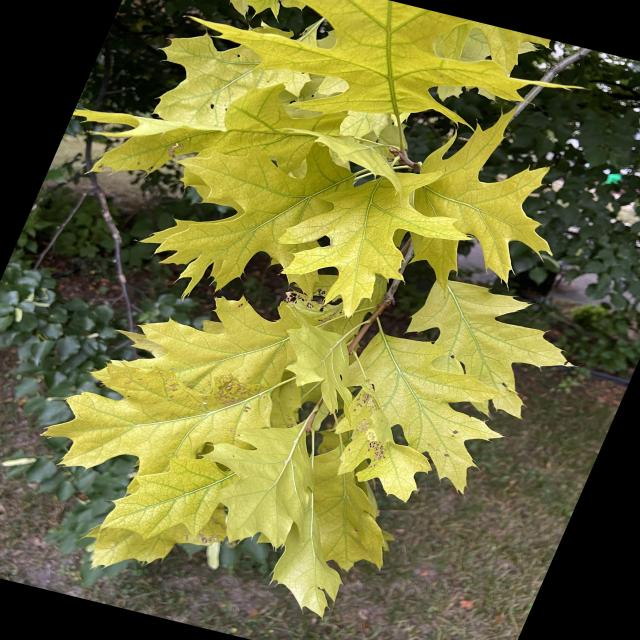Chlorosis: (64, 2, 566, 640)
